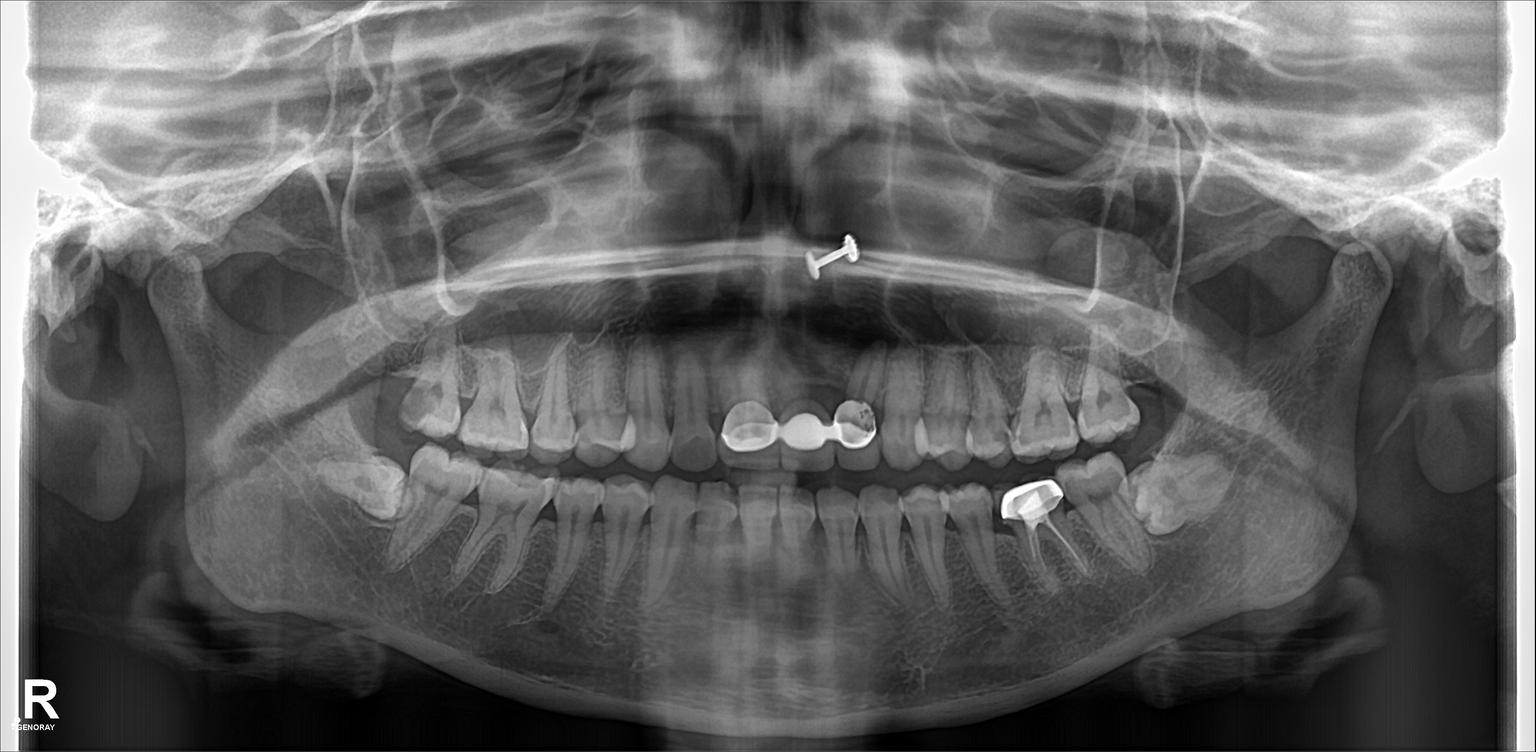Dental Caries: (402, 383, 444, 426), (678, 430, 711, 465)
Endodontically Treated Tooth: (721, 344, 779, 460), (1006, 482, 1067, 584), (771, 352, 825, 459), (834, 359, 880, 451)
Impacted Third Molar: (307, 450, 414, 520), (1132, 460, 1234, 529)
Missing Tooth: (345, 326, 402, 426), (1130, 341, 1174, 429)
